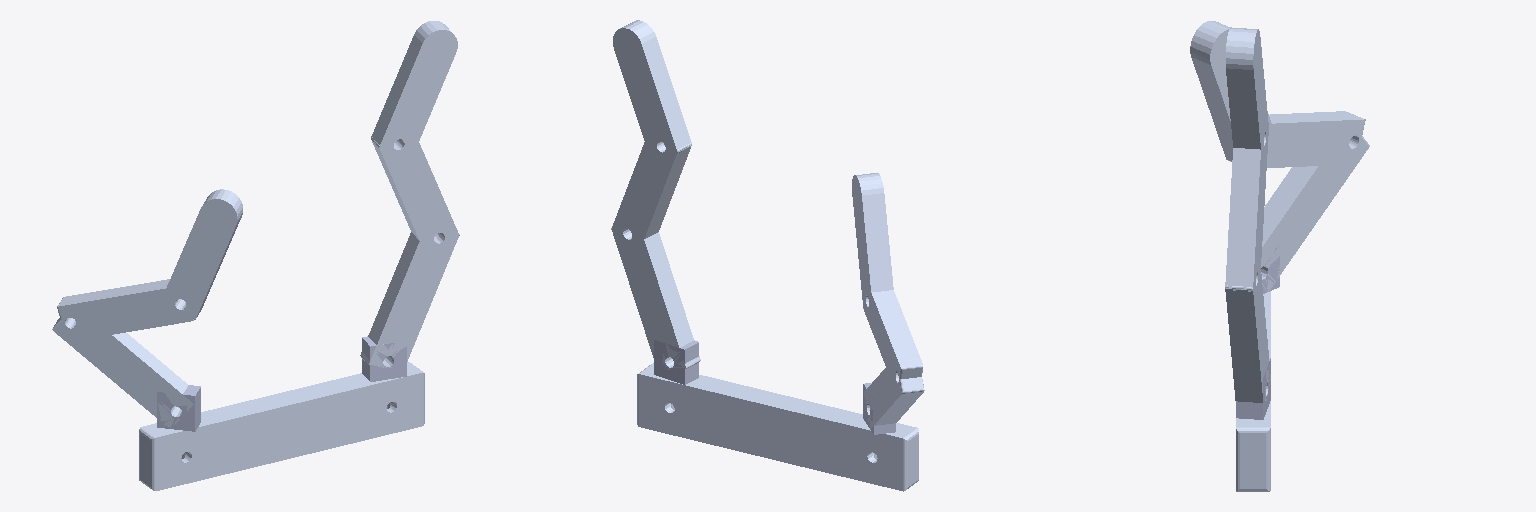
URDF robot description (two_link_manipulator):
<?xml version="1.0" encoding="utf-8"?>
<!-- This URDF was automatically created by SolidWorks to URDF Exporter! Originally created by [author] ([email redacted]) 
     Commit Version: 1.6.0-4-g7f85cfe  Build Version: 1.6.7995.38578
     For more information, please see http://wiki.ros.org/sw_urdf_exporter -->
<robot
  name="two_link_manipulator">
  <link
    name="palm">
    <inertial>
      <origin
        xyz="0.67078 0.88478 1.3084"
        rpy="0 0 0" />
      <mass
        value="0.18762" />
      <inertia
        ixx="1.7744E-05"
        ixy="-2.2097E-10"
        ixz="1.1434E-10"
        iyy="0.00039275"
        iyz="9.4556E-12"
        izz="0.00040334" />
    </inertial>
    <visual>
      <origin
        xyz="0 0 0"
        rpy="0 0 0" />
      <geometry>
        <mesh
          filename="meshes_obj/palm.obj" />
      </geometry>
      <material
        name="">
        <color
          rgba="0.86667 0.9098 1 1" />
      </material>
    </visual>
    <collision>
      <origin
        xyz="0 0 0"
        rpy="0 0 0" />
      <geometry>
        <mesh
          filename="meshes_obj/palm.obj" />
      </geometry>
    </collision>
  </link>
  <link
    name="Left_base">
    <inertial>
      <origin
        xyz="0 0.01 2.8652E-08"
        rpy="0 0 0" />
      <mass
        value="0.0040046" />
      <inertia
        ixx="1.9205E-07"
        ixy="8.652E-13"
        ixz="-4.9982E-14"
        iyy="2.1036E-07"
        iyz="-1.4204E-19"
        izz="2.9779E-07" />
    </inertial>
    <visual>
      <origin
        xyz="0 0 0"
        rpy="0 0 0" />
      <geometry>
        <mesh
          filename="meshes_obj/Left_base.obj" />
      </geometry>
      <material
        name="">
        <color
          rgba="0.79216 0.81961 0.93333 1" />
      </material>
    </visual>
    <collision>
      <origin
        xyz="0 0 0"
        rpy="0 0 0" />
      <geometry>
        <mesh
          filename="meshes_obj/Left_base.obj" />
      </geometry>
    </collision>
  </link>
  <joint
    name="joint1"
    type="revolute">
    <origin
      xyz="0.61073 -1.3084 0.89978"
      rpy="1.5708 0 -0.77764" />
    <parent
      link="palm" />
    <child
      link="Left_base" />
    <axis
      xyz="0 1 0" />
    <limit
      lower="-1.57"
      upper="1.57"
      effort="5"
      velocity="2" />
  </joint>
  <link
    name="LL1">
    <inertial>
      <origin
        xyz="-0.035 1.2879E-14 2.2204E-16"
        rpy="0 0 0" />
      <mass
        value="0.049843" />
      <inertia
        ixx="2.3166E-06"
        ixy="-5.4473E-12"
        ixz="-1.5686E-19"
        iyy="2.5769E-05"
        iyz="6.7763E-21"
        izz="2.6891E-05" />
    </inertial>
    <visual>
      <origin
        xyz="0 0 0"
        rpy="0 0 0" />
      <geometry>
        <mesh
          filename="meshes_obj/LL1.obj" />
      </geometry>
      <material
        name="">
        <color
          rgba="0.86667 0.9098 1 1" />
      </material>
    </visual>
    <collision>
      <origin
        xyz="0 0 0"
        rpy="0 0 0" />
      <geometry>
        <mesh
          filename="meshes_obj/LL1.obj" />
      </geometry>
    </collision>
  </link>
  <joint
    name="joint2"
    type="revolute">
    <origin
      xyz="0 0.01 0"
      rpy="0 0 -0.66305" />
    <parent
      link="Left_base" />
    <child
      link="LL1" />
    <axis
      xyz="0 0 1" />
    <limit
      lower="-1.57"
      upper="1.57"
      effort="5"
      velocity="2" />
  </joint>
  <link
    name="LL2">
    <inertial>
      <origin
        xyz="0.03 9.4369E-15 4.568E-10"
        rpy="0 0 0" />
      <mass
        value="0.043363" />
      <inertia
        ixx="2.0228E-06"
        ixy="-1.3837E-11"
        ixz="-1.9439E-19"
        iyy="1.7217E-05"
        iyz="-4.0234E-21"
        izz="1.8201E-05" />
    </inertial>
    <visual>
      <origin
        xyz="0 0 0"
        rpy="0 0 0" />
      <geometry>
        <mesh
          filename="meshes_obj/LL2.obj" />
      </geometry>
      <material
        name="">
        <color
          rgba="0.86667 0.9098 1 1" />
      </material>
    </visual>
    <collision>
      <origin
        xyz="0 0 0"
        rpy="0 0 0" />
      <geometry>
        <mesh
          filename="meshes_obj/LL2.obj" />
      </geometry>
    </collision>
  </link>
  <joint
    name="joint3"
    type="revolute">
    <origin
      xyz="-0.07 0 0"
      rpy="0 0 0.95183" />
    <parent
      link="LL1" />
    <child
      link="LL2" />
    <axis
      xyz="0 0 1" />
    <limit
      lower="-1.57"
      upper="1.57"
      effort="5"
      velocity="2" />
  </joint>
  <link
    name="LL3">
    <inertial>
      <origin
        xyz="0.029641 -6.7376E-09 3.9692E-09"
        rpy="0 0 0" />
      <mass
        value="0.042971" />
      <inertia
        ixx="1.9341E-06"
        ixy="-7.0439E-12"
        ixz="4.8188E-12"
        iyy="1.6622E-05"
        iyz="-8.3066E-14"
        izz="1.7525E-05" />
    </inertial>
    <visual>
      <origin
        xyz="0 0 0"
        rpy="0 0 0" />
      <geometry>
        <mesh
          filename="meshes_obj/LL3.obj" />
      </geometry>
      <material
        name="">
        <color
          rgba="0.86667 0.9098 1 1" />
      </material>
    </visual>
    <collision>
      <origin
        xyz="0 0 0"
        rpy="0 0 0" />
      <geometry>
        <mesh
          filename="meshes_obj/LL3.obj" />
      </geometry>
    </collision>
  </link>
  <joint
    name="joint4"
    type="revolute">
    <origin
      xyz="0.06 0 0"
      rpy="0 0 0.91379" />
    <parent
      link="LL2" />
    <child
      link="LL3" />
    <axis
      xyz="0 0 1" />
    <limit
      lower="-1.57"
      upper="1.57"
      effort="5"
      velocity="2" />
  </joint>
  <link
    name="Right_base">
    <inertial>
      <origin
        xyz="0 0.01 2.8652E-08"
        rpy="0 0 0" />
      <mass
        value="0.0040046" />
      <inertia
        ixx="1.9205E-07"
        ixy="8.652E-13"
        ixz="-4.9982E-14"
        iyy="2.1036E-07"
        iyz="-1.4181E-19"
        izz="2.9779E-07" />
    </inertial>
    <visual>
      <origin
        xyz="0 0 0"
        rpy="0 0 0" />
      <geometry>
        <mesh
          filename="meshes_obj/Right_base.obj" />
      </geometry>
      <material
        name="">
        <color
          rgba="0.79216 0.81961 0.93333 1" />
      </material>
    </visual>
    <collision>
      <origin
        xyz="0 0 0"
        rpy="0 0 0" />
      <geometry>
        <mesh
          filename="meshes_obj/Right_base.obj" />
      </geometry>
    </collision>
  </link>
  <joint
    name="joint5"
    type="revolute">
    <origin
      xyz="0.73083 -1.3084 0.89978"
      rpy="1.5708 0 2.9852" />
    <parent
      link="palm" />
    <child
      link="Right_base" />
    <axis
      xyz="0 1 0" />
    <limit
      lower="-1.57"
      upper="1.57"
      effort="5"
      velocity="2" />
  </joint>
  <link
    name="RL1">
    <inertial>
      <origin
        xyz="0.035 5.6621E-15 4.5604E-10"
        rpy="0 0 0" />
      <mass
        value="0.049843" />
      <inertia
        ixx="2.3166E-06"
        ixy="-1.7204E-11"
        ixz="-4.0712E-19"
        iyy="2.5768E-05"
        iyz="5.0822E-21"
        izz="2.6891E-05" />
    </inertial>
    <visual>
      <origin
        xyz="0 0 0"
        rpy="0 0 0" />
      <geometry>
        <mesh
          filename="meshes_obj/RL1.obj" />
      </geometry>
      <material
        name="">
        <color
          rgba="0.86667 0.9098 1 1" />
      </material>
    </visual>
    <collision>
      <origin
        xyz="0 0 0"
        rpy="0 0 0" />
      <geometry>
        <mesh
          filename="meshes_obj/RL1.obj" />
      </geometry>
    </collision>
  </link>
  <joint
    name="joint6"
    type="revolute">
    <origin
      xyz="0 0.01 0"
      rpy="0 0 1.9755" />
    <parent
      link="Right_base" />
    <child
      link="RL1" />
    <axis
      xyz="0 0 1" />
    <limit
      lower="-1.57"
      upper="1.57"
      effort="5"
      velocity="2" />
  </joint>
  <link
    name="RL2">
    <inertial>
      <origin
        xyz="0.03 0 4.568E-10"
        rpy="0 0 0" />
      <mass
        value="0.043363" />
      <inertia
        ixx="2.0228E-06"
        ixy="-1.3837E-11"
        ixz="-1.9812E-19"
        iyy="1.7217E-05"
        iyz="1.3553E-20"
        izz="1.8201E-05" />
    </inertial>
    <visual>
      <origin
        xyz="0 0 0"
        rpy="0 0 0" />
      <geometry>
        <mesh
          filename="meshes_obj/RL2.obj" />
      </geometry>
      <material
        name="">
        <color
          rgba="0.86667 0.9098 1 1" />
      </material>
    </visual>
    <collision>
      <origin
        xyz="0 0 0"
        rpy="0 0 0" />
      <geometry>
        <mesh
          filename="meshes_obj/RL2.obj" />
      </geometry>
    </collision>
  </link>
  <joint
    name="joint7"
    type="revolute">
    <origin
      xyz="0.07 0 0"
      rpy="0 0 -0.77973" />
    <parent
      link="RL1" />
    <child
      link="RL2" />
    <axis
      xyz="0 0 1" />
    <limit
      lower="-1.57"
      upper="1.57"
      effort="5"
      velocity="2" />
  </joint>
  <link
    name="RL3">
    <inertial>
      <origin
        xyz="0.029641 -5.9431E-09 2.6922E-10"
        rpy="0 0 0" />
      <mass
        value="0.042971" />
      <inertia
        ixx="1.9341E-06"
        ixy="-6.1647E-12"
        ixz="3.4221E-13"
        iyy="1.6622E-05"
        iyz="-1.4195E-13"
        izz="1.7525E-05" />
    </inertial>
    <visual>
      <origin
        xyz="0 0 0"
        rpy="0 0 0" />
      <geometry>
        <mesh
          filename="meshes_obj/RL3.obj" />
      </geometry>
      <material
        name="">
        <color
          rgba="0.86667 0.9098 1 1" />
      </material>
    </visual>
    <collision>
      <origin
        xyz="0 0 0"
        rpy="0 0 0" />
      <geometry>
        <mesh
          filename="meshes_obj/RL3.obj" />
      </geometry>
    </collision>
  </link>
  <joint
    name="joint8"
    type="revolute">
    <origin
      xyz="0.06 0 0"
      rpy="0 0 0.78605" />
    <parent
      link="RL2" />
    <child
      link="RL3" />
    <axis
      xyz="0 0 1" />
    <limit
      lower="-1.57"
      upper="1.57"
      effort="5"
      velocity="2" />
  </joint>
</robot>

--- Render facts (derived) ---
Views: 3 orthographic renders of the robot side by side, from view 1: azimuth 30°, elevation 25°; view 2: azimuth 150°, elevation 25°; view 3: azimuth 270°, elevation 25°.
Robot: two_link_manipulator — 9 links, 8 joints (8 revolute); root link palm; default pose: every joint at zero.
Visible links, largest first — view 1: palm, RL1, LL1, RL3, LL2, LL3, RL2, Left_base, Right_base; view 2: palm, RL3, RL1, RL2, LL3, LL2, LL1, Right_base; view 3: LL1, RL2, RL3, RL1, LL2, LL3, palm, Right_base.
Link boxes in pixels (x1,y1,x2,y2): palm: (139, 362, 424, 490); RL1: (360, 230, 459, 367); LL1: (52, 305, 193, 427); RL3: (371, 21, 457, 151); LL2: (57, 279, 193, 339); LL3: (167, 189, 242, 319); RL2: (371, 129, 459, 253); Left_base: (157, 385, 200, 431); Right_base: (362, 336, 406, 381); palm: (637, 363, 918, 491); RL3: (613, 20, 691, 155); RL1: (611, 227, 700, 369); RL2: (611, 130, 691, 250); LL3: (852, 173, 893, 309); LL2: (864, 283, 922, 385); LL1: (864, 359, 924, 429); Right_base: (654, 340, 698, 384); LL1: (1261, 127, 1369, 291); RL2: (1225, 130, 1268, 291); RL3: (1226, 27, 1268, 160); RL1: (1225, 264, 1270, 402); LL2: (1267, 111, 1365, 167); LL3: (1190, 21, 1276, 161); palm: (1236, 291, 1270, 491); Right_base: (1236, 358, 1270, 419).
Bounding box of the posed robot: 0.2092 × 0.0764 × 0.2205 m (x, y, z).
9 mesh visuals loaded from 9 distinct referenced files (9 OBJ).